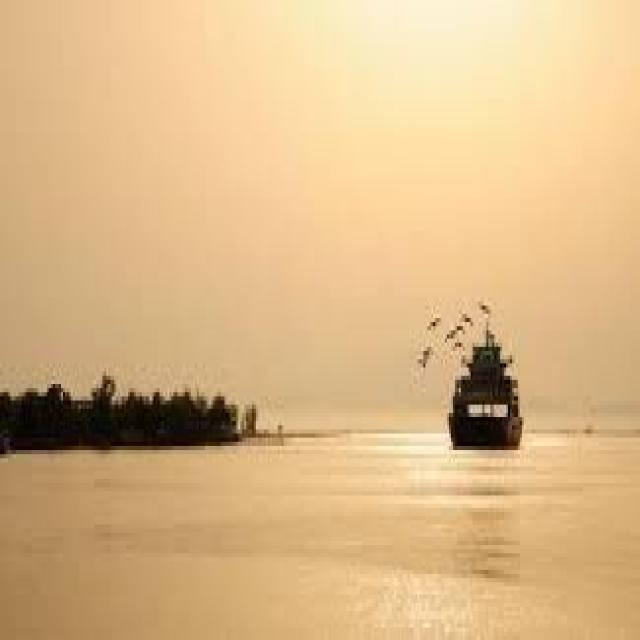cargoship: (445, 320, 524, 450)
